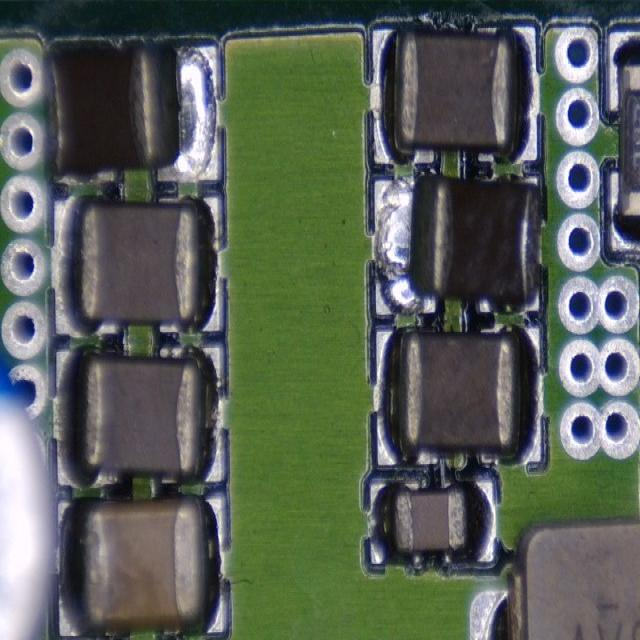Incorrect_installation: (44, 41, 222, 185), (373, 174, 541, 316)
